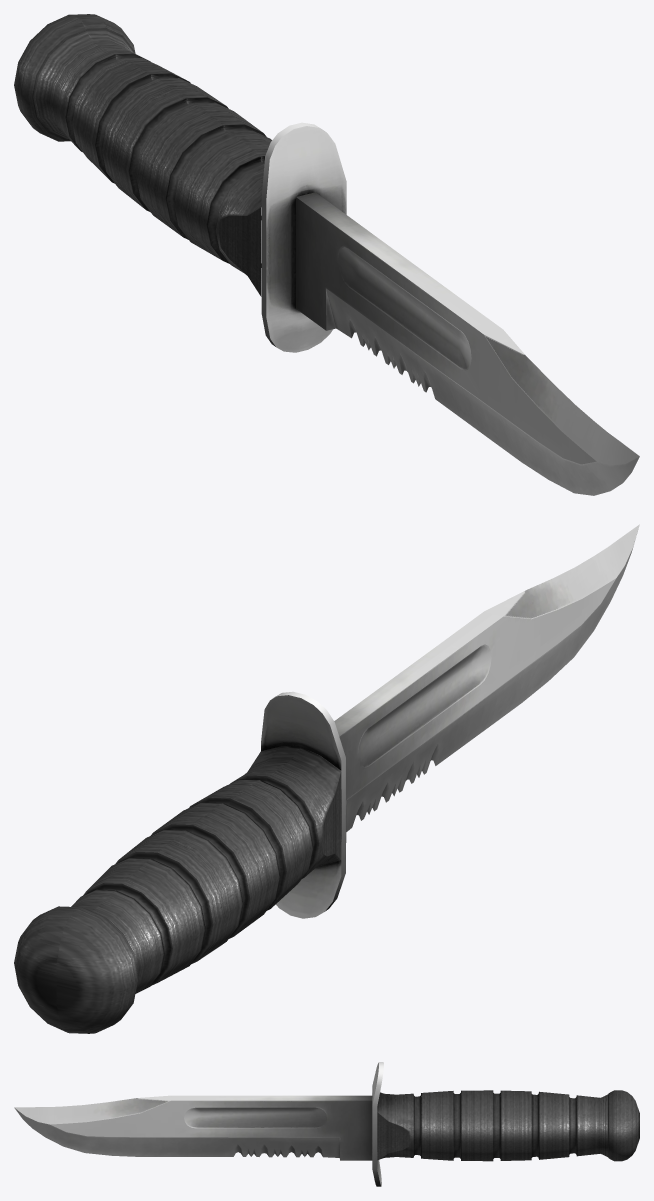
The picture shows the model from 3 angles, top to bottom: view 1: azimuth 30°, elevation 25°; view 2: azimuth 150°, elevation 25°; view 3: azimuth 270°, elevation 25°; orthographic projection. The views are drawn at different scales.
Visible parts, largest first — view 1: Body_knife; view 2: Body_knife; view 3: Body_knife.
Part boxes in pixels (x1,y1,x2,y2): Body_knife: (14,14,639,495); Body_knife: (14,524,639,1033); Body_knife: (14,1062,639,1186).
Size of the model in its own units: 0.0342 by 0.063 by 0.3.
1 material, 1 textured.
